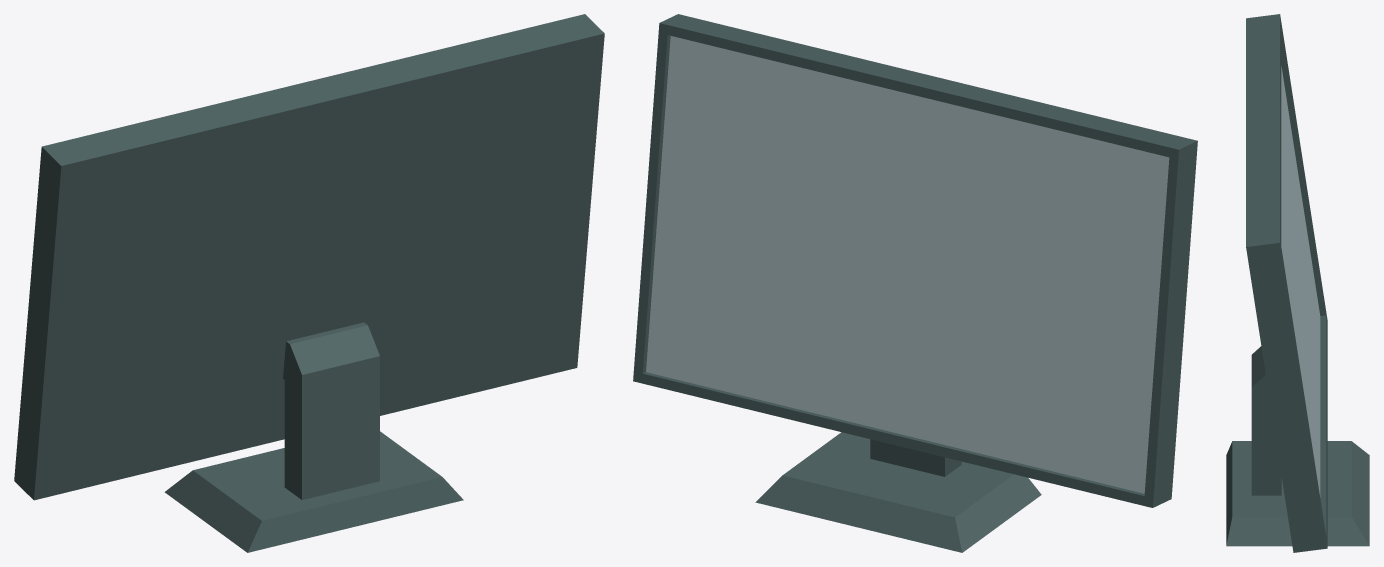
File: computerScreen.obj
3 views of the same model, side by side, from view 1: azimuth 30°, elevation 25°; view 2: azimuth 150°, elevation 25°; view 3: azimuth 270°, elevation 25° (orthographic). The views are drawn at different scales.
Visible parts, largest first — view 1: computerScreen; view 2: computerScreen; view 3: computerScreen.
Part boxes in pixels (x1,y1,x2,y2): computerScreen: (14,14,604,552); computerScreen: (633,14,1197,552); computerScreen: (1226,14,1369,552).
Size of the model in its own units: 0.3927 by 0.2943 by 0.104.
